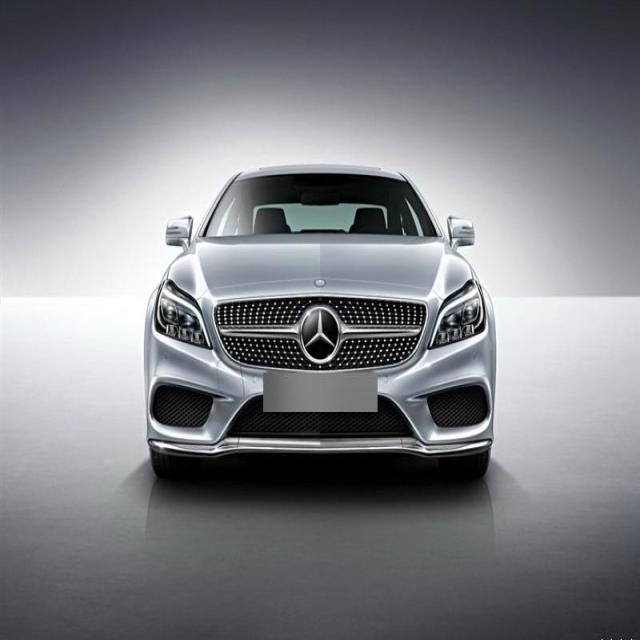front_bumper: (146, 298, 497, 454)
front_glass: (201, 174, 438, 237)
front_left_side_light: (426, 277, 486, 351)
front_left_side_mirror: (446, 214, 476, 248)
front_right_side_light: (153, 275, 213, 350)
front_right_side_mirror: (164, 212, 195, 250)
